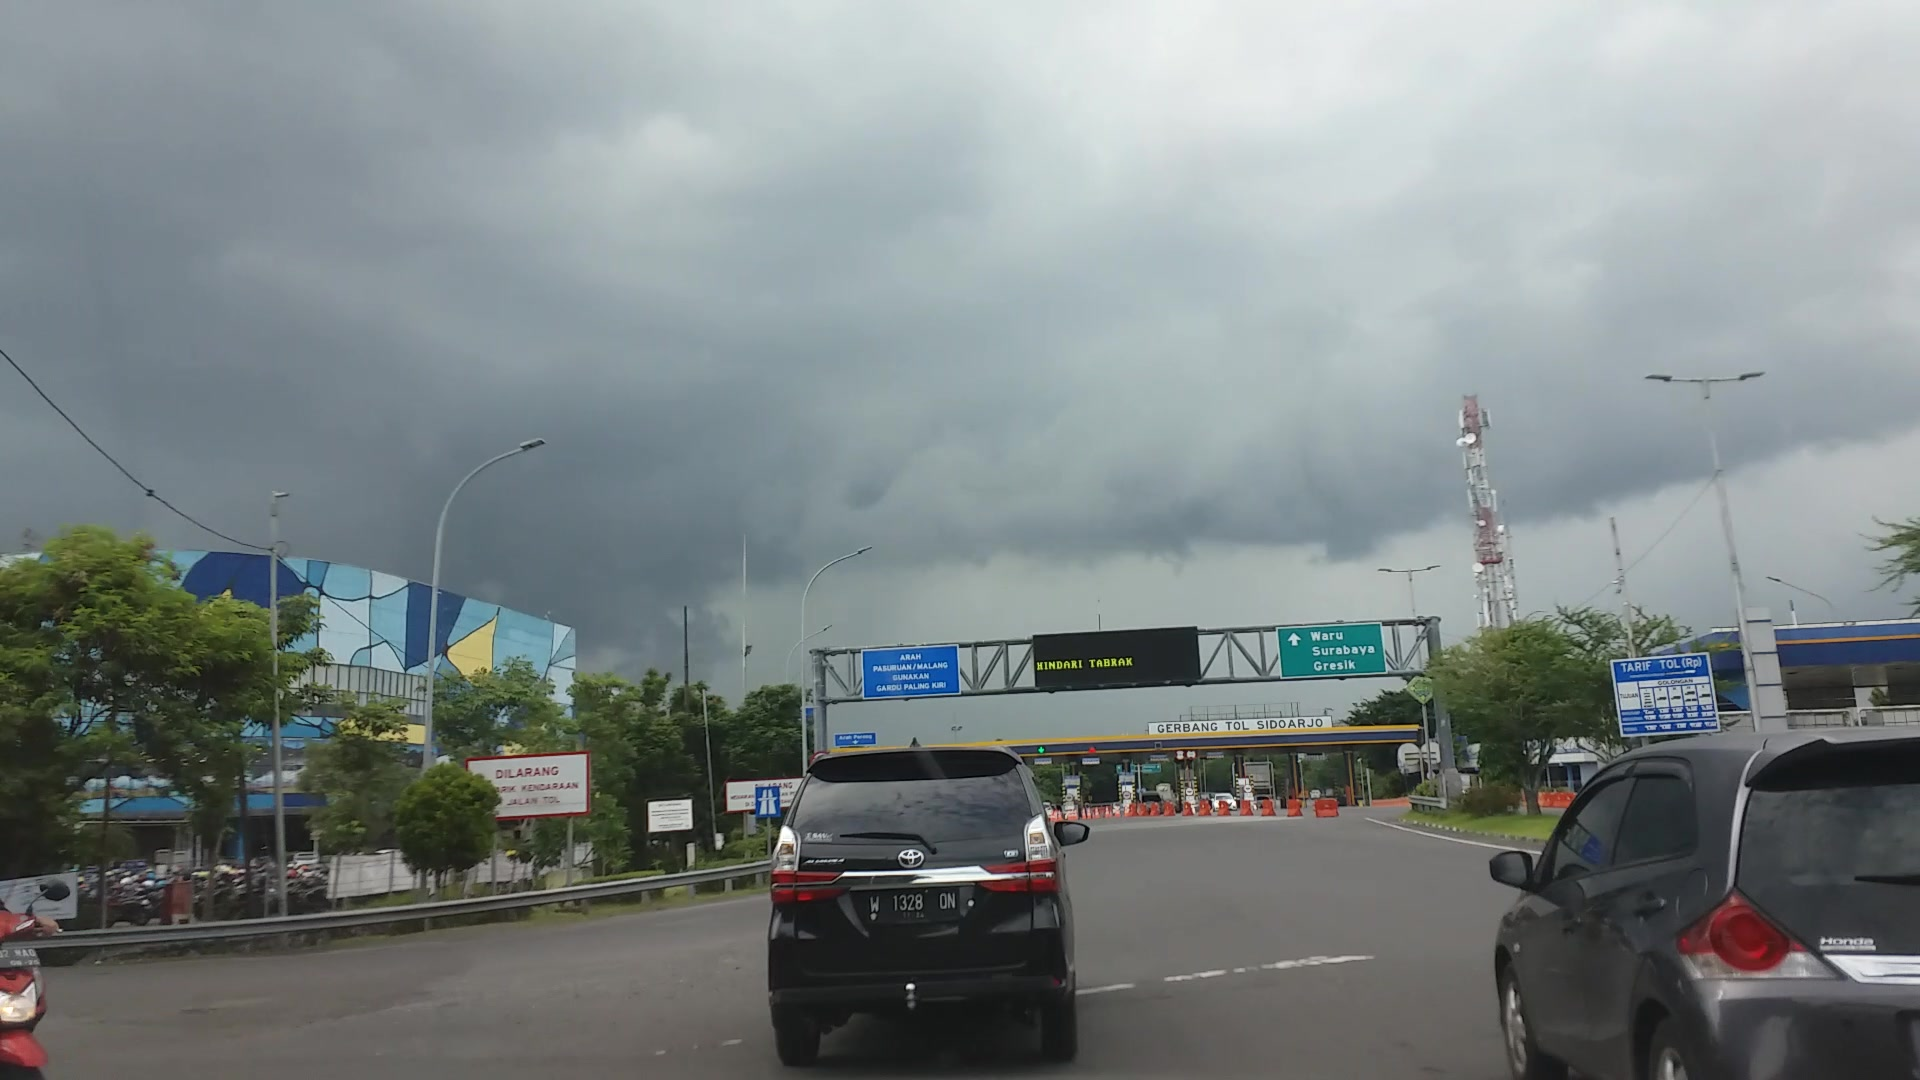plate_positive: (866, 886, 960, 923)
